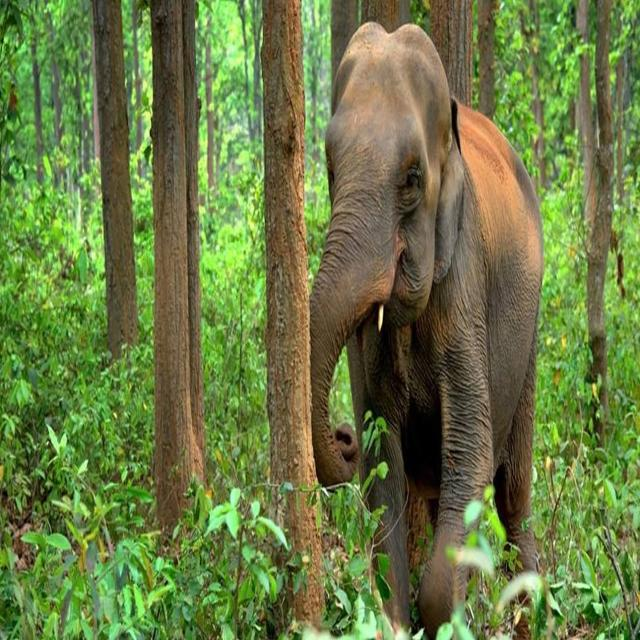Elephant: (300, 20, 546, 620)
